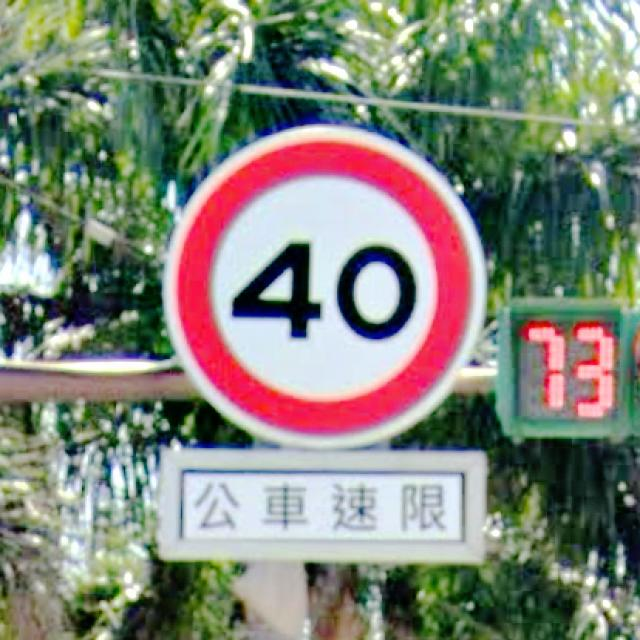max40: (159, 120, 489, 450)
